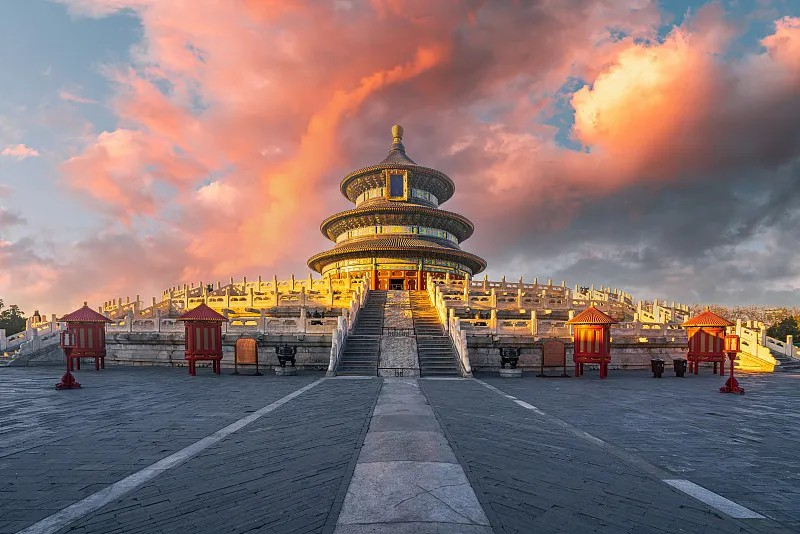Heaven: (307, 124, 487, 292)
